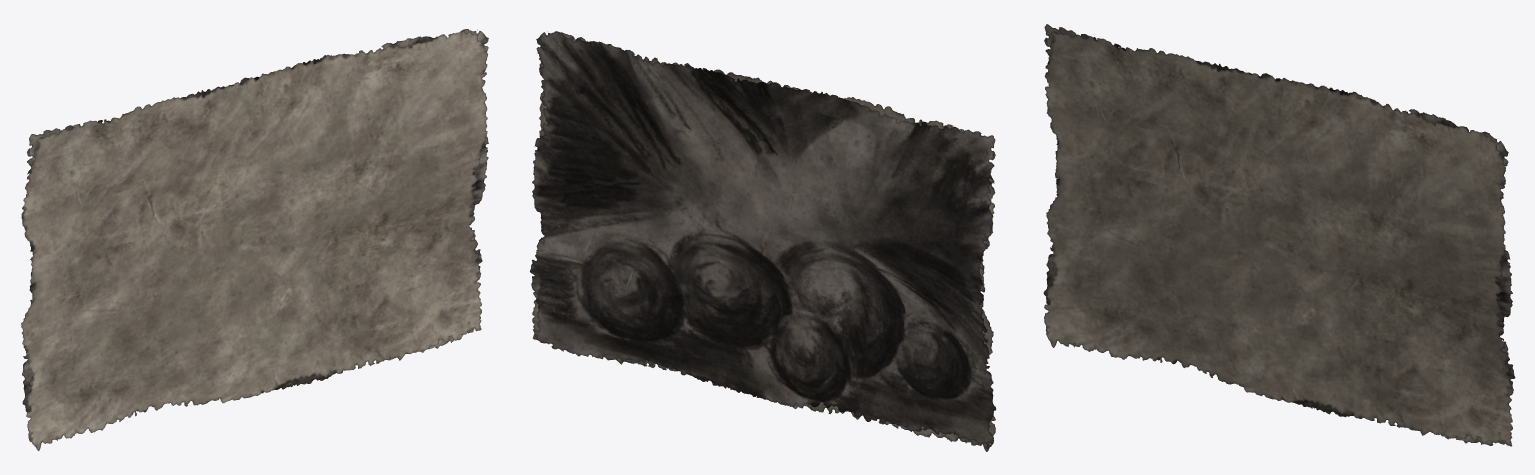
The model's file is strange_sketch04.dae.
3 views of the same model, side by side, from view 1: azimuth 30°, elevation 25°; view 2: azimuth 150°, elevation 25°; view 3: azimuth 330°, elevation 25° (orthographic).
Visible parts, largest first — view 1: strange_sketch04; view 2: strange_sketch04; view 3: strange_sketch04.
Part boxes in pixels (left/top/right/bottom): strange_sketch04: left=21, top=29, right=488, bottom=450; strange_sketch04: left=530, top=31, right=996, bottom=451; strange_sketch04: left=1043, top=24, right=1515, bottom=446.
Bounding box in the file's own units: 1.5 × 1 × 0.0417.
